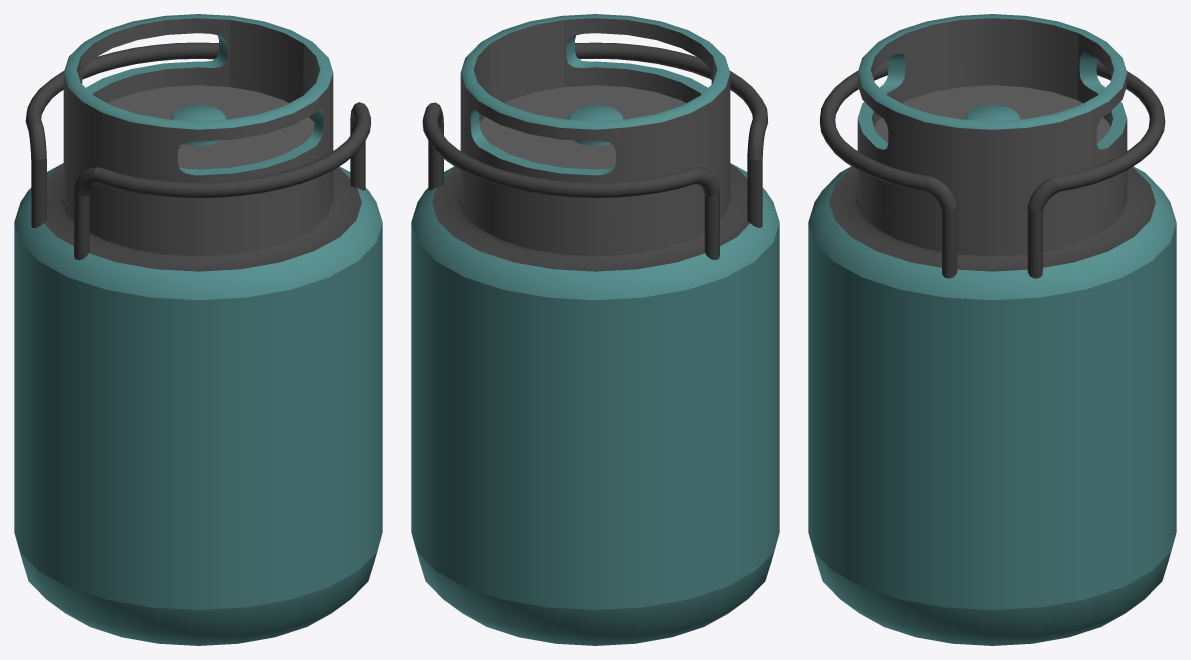
File: tup.fbx
3 renders of one model, left to right at view 1: azimuth 30°, elevation 25°; view 2: azimuth 150°, elevation 25°; view 3: azimuth 270°, elevation 25°, orthographic.
Visible parts, largest first — view 1: polySurface14; view 2: polySurface14; view 3: polySurface14.
Boxes of the visible parts, left/top/right/bottom form: polySurface14: left=14, top=14, right=382, bottom=645; polySurface14: left=411, top=14, right=779, bottom=645; polySurface14: left=808, top=14, right=1176, bottom=645.
Size of the model in its own units: 51.3 by 80 by 51.3.
